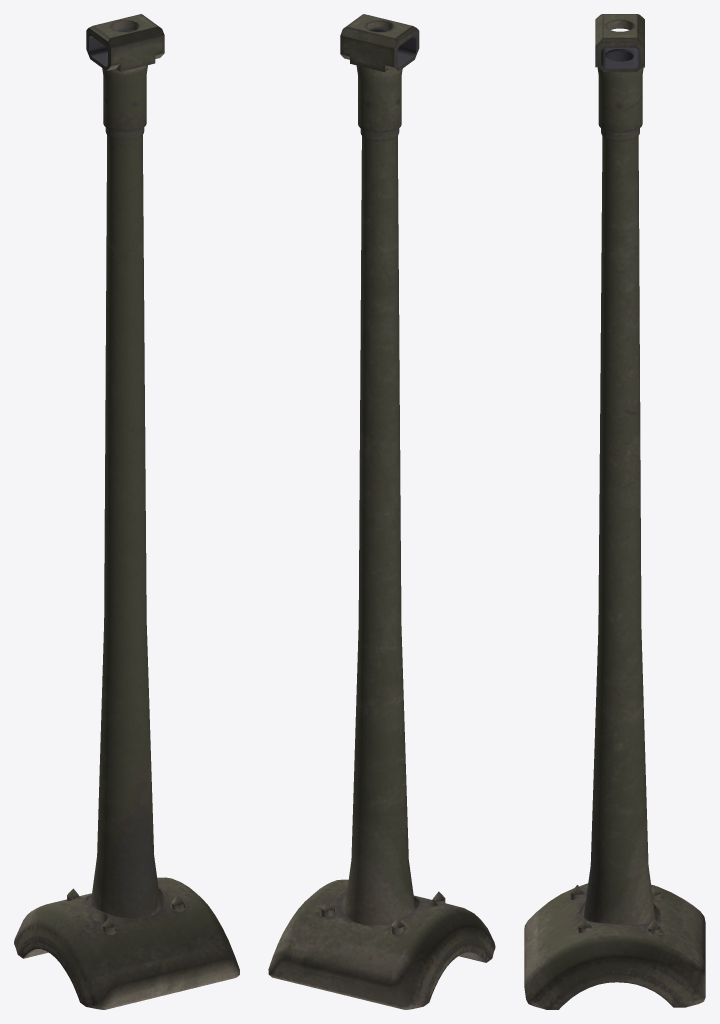
The model's file is Gun_01.glb.
The picture shows the model from 3 angles, left to right: view 1: azimuth 30°, elevation 25°; view 2: azimuth 150°, elevation 25°; view 3: azimuth 270°, elevation 25°; orthographic projection.
Visible parts, largest first — view 1: set_0_group_0; view 2: set_0_group_0; view 3: set_0_group_0.
Boxes of the visible parts, bbox=[...] form: set_0_group_0: bbox=[14, 14, 239, 1009]; set_0_group_0: bbox=[268, 14, 495, 1009]; set_0_group_0: bbox=[524, 14, 705, 1009].
Bounding box in the file's own units: 0.9106 × 5.4 × 0.938.
1 material, 1 textured.
